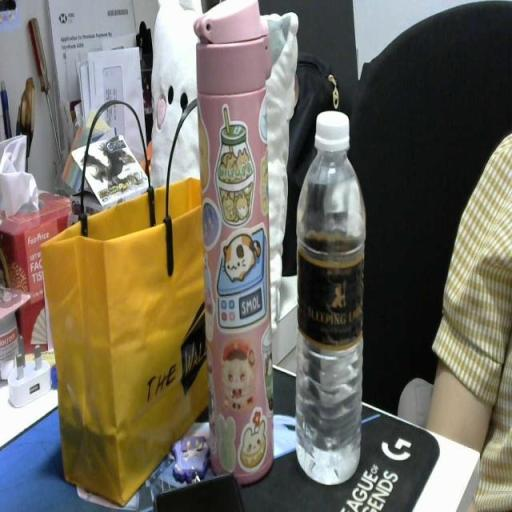plastic: (296, 111, 367, 488)
